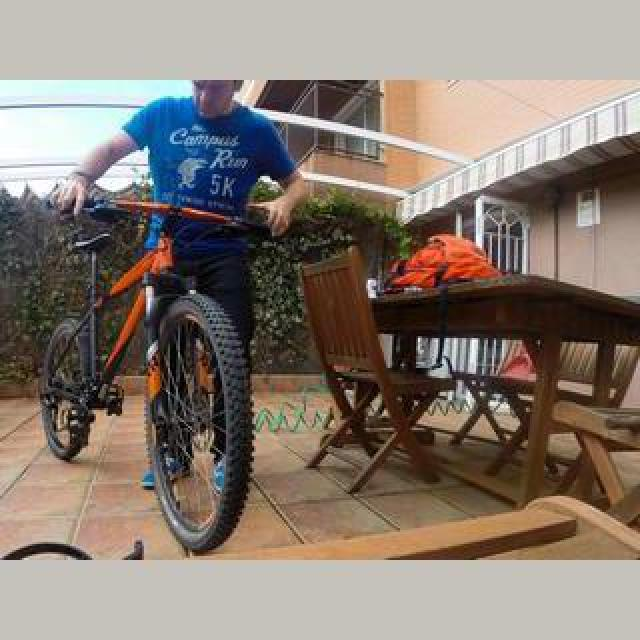MC-Bike: (50, 76, 314, 476)
Person: (33, 136, 275, 558)
